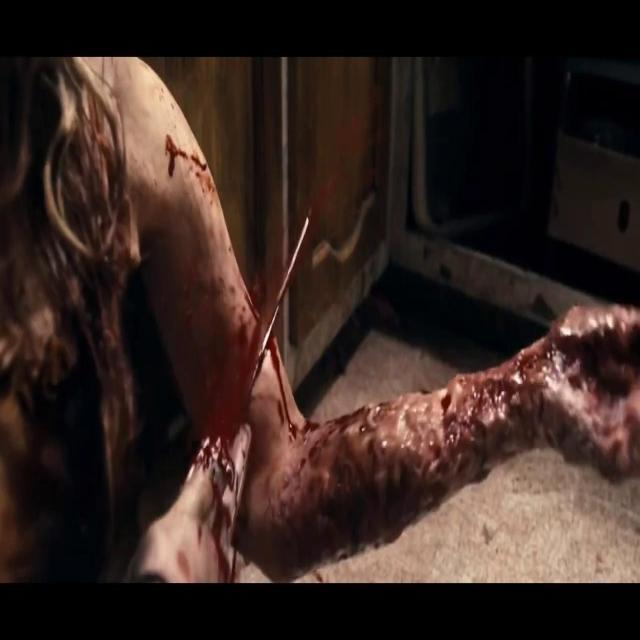flood: (282, 294, 640, 556), (185, 291, 273, 472), (153, 121, 228, 216)
